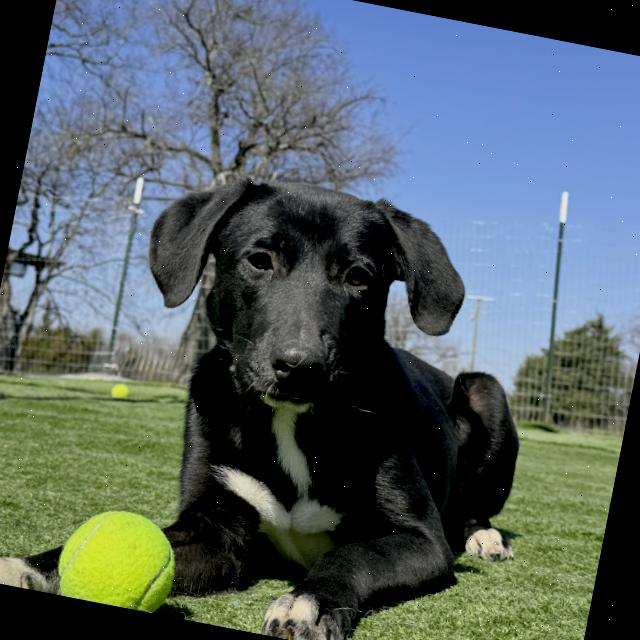labrador_retriever_dog: (110, 144, 492, 466)
